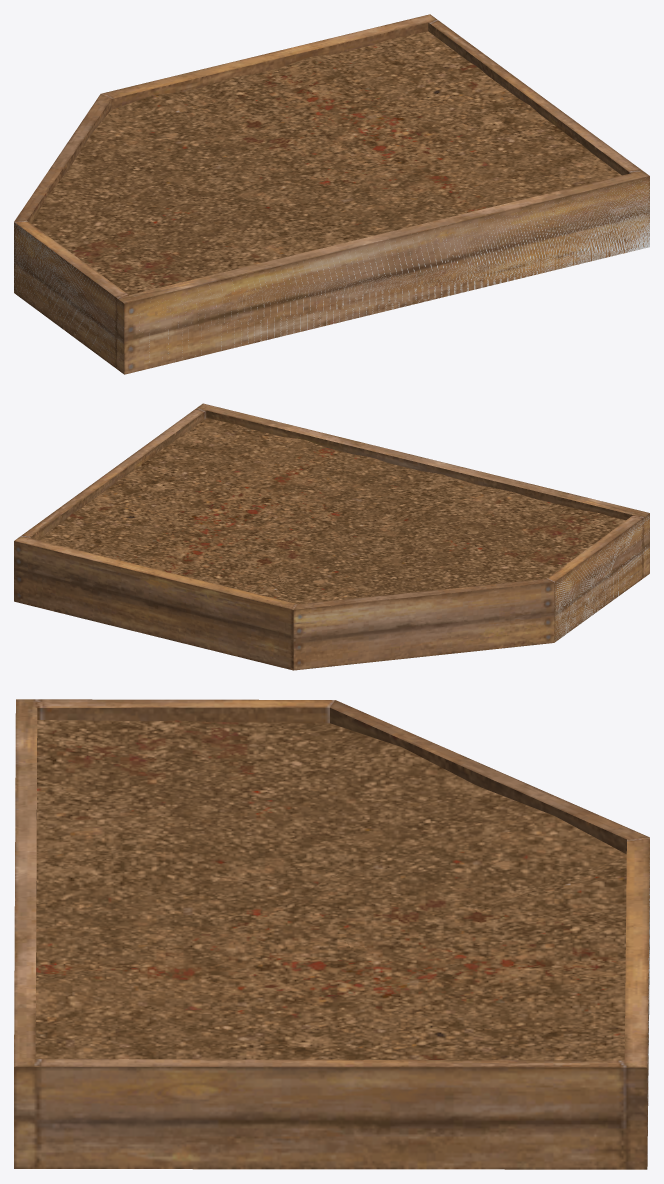
File: objects_un_t01house01_farm03.gltf
3 views of the same model, one above another, from view 1: azimuth 30°, elevation 25°; view 2: azimuth 150°, elevation 25°; view 3: azimuth 270°, elevation 25° (orthographic). The views are drawn at different scales.
Parts seen in each view (by area): view 1: um_objects_un_t01house01_farm03_model_lod0Shape:objects_un_t (×2), um_objects_un_t01house01_farm03_model_lod1Shape:objects_un_t, um_objects_un_t01house01_farm03_model_lod2Shape:objects_un_t; view 2: um_objects_un_t01house01_farm03_model_lod0Shape:objects_un_t (×2), um_objects_un_t01house01_farm03_model_lod1Shape:objects_un_t, um_objects_un_t01house01_farm03_model_lod2Shape:objects_un_t; view 3: um_objects_un_t01house01_farm03_model_lod0Shape:objects_un_t, um_objects_un_t01house01_farm03_model_lod1Shape:objects_un_t, um_objects_un_t01house01_farm03_model_lod2Shape:objects_un_t.
Part boxes in pixels (x1,y1,x2,y2): um_objects_un_t01house01_farm03_model_lod0Shape:objects_un_t (×2): (14,14,649,374); um_objects_un_t01house01_farm03_model_lod1Shape:objects_un_t: (49,31,621,294); um_objects_un_t01house01_farm03_model_lod2Shape:objects_un_t: (115,108,350,195); um_objects_un_t01house01_farm03_model_lod0Shape:objects_un_t (×2): (14,403,649,670); um_objects_un_t01house01_farm03_model_lod1Shape:objects_un_t: (37,419,624,590); um_objects_un_t01house01_farm03_model_lod2Shape:objects_un_t: (253,523,415,602); um_objects_un_t01house01_farm03_model_lod0Shape:objects_un_t: (14,699,649,1169); um_objects_un_t01house01_farm03_model_lod1Shape:objects_un_t: (36,720,626,1060); um_objects_un_t01house01_farm03_model_lod2Shape:objects_un_t: (278,723,626,955).
Size of the model in its own units: 4.51 by 0.5824 by 3.29.
Materials: 2 (1 with a texture image).
